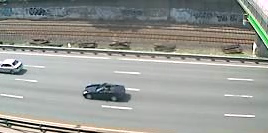car: (80, 80, 129, 105), (1, 56, 24, 76)
